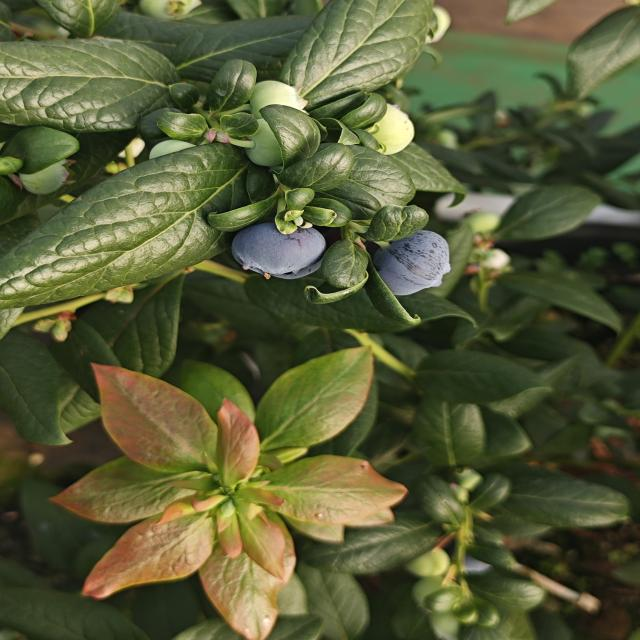ripe: (225, 214, 334, 284), (370, 226, 457, 299)
